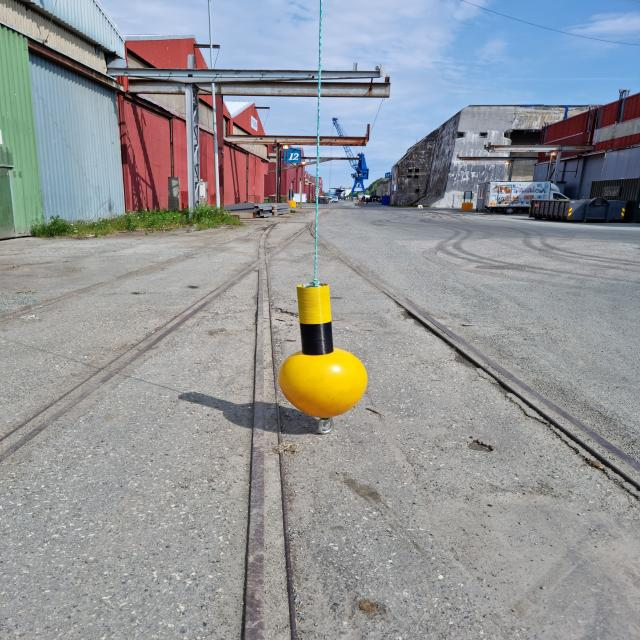west: (278, 286, 368, 419)
